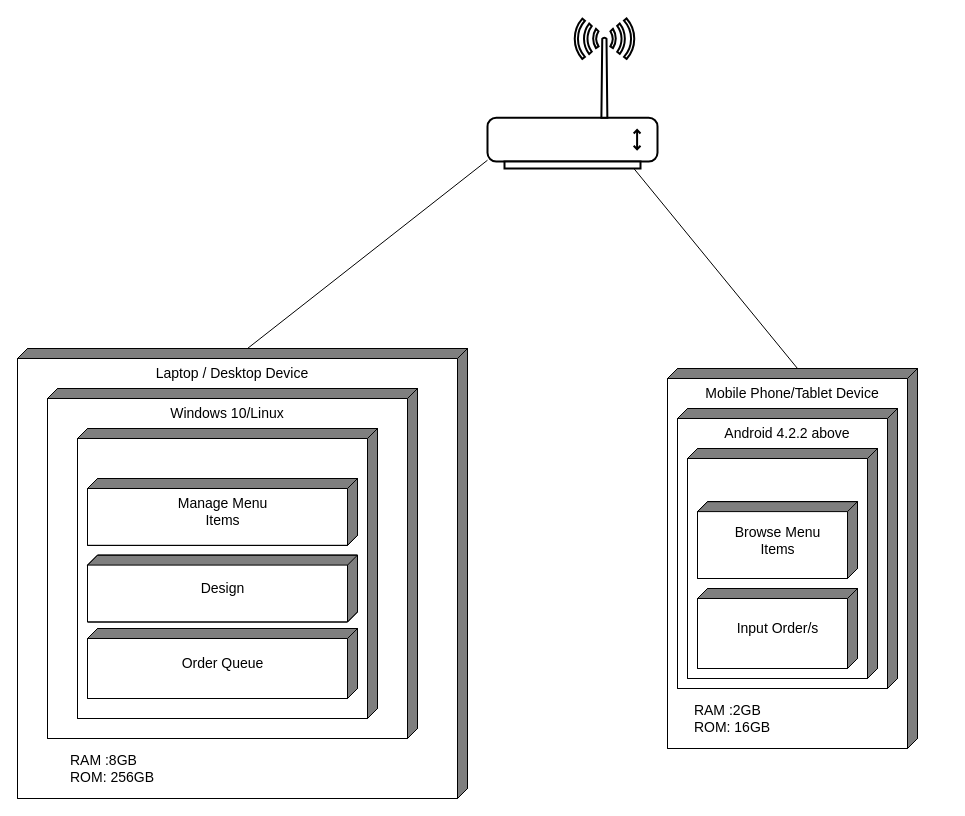
This 965x816 diagram has some shape labels left out. Each missing label, with the box of its shape:
MenuMaApp Manage: (76, 428, 378, 718)
MenuMaApp Order: (686, 448, 878, 678)
